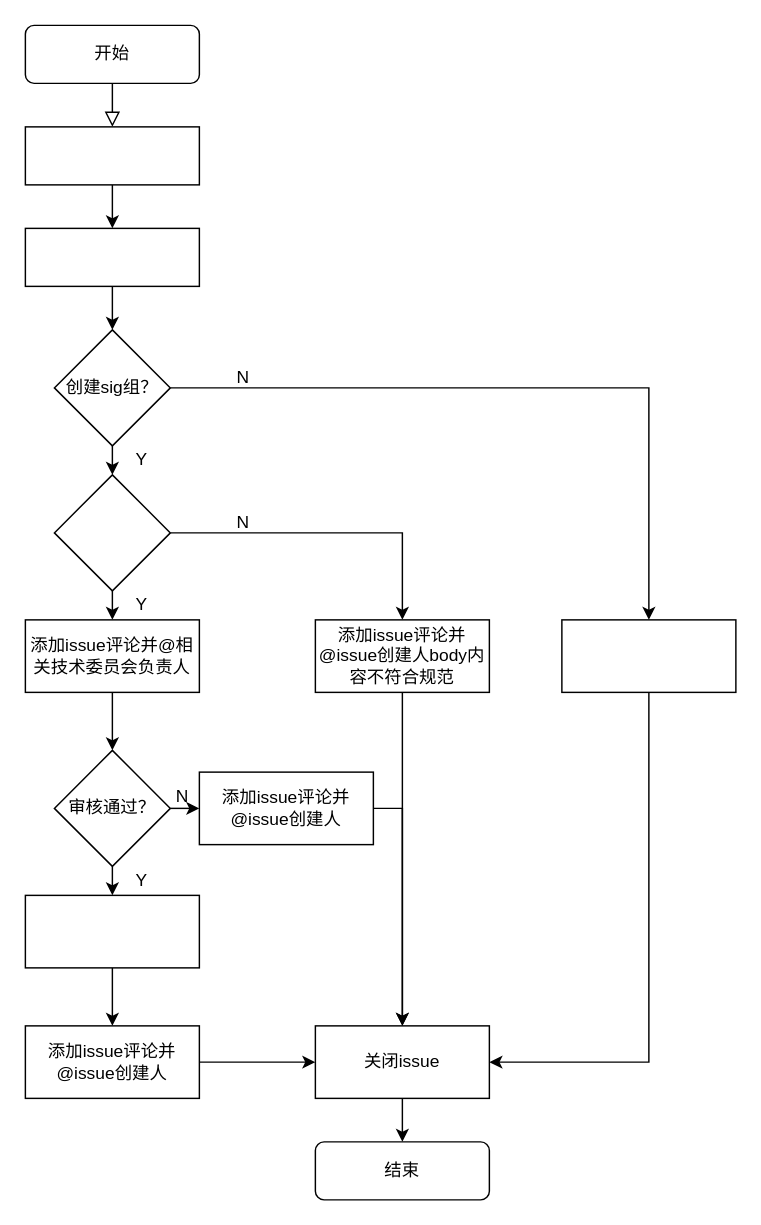
Some shapes in this 761 by 1225 pixel diagram are drawn without their labels. The centre of each missing label's shape, as x and y in pixels:
issue body符合规范？: the point at 111,532
其他issue相关CI流程: the point at 648,655
获取issue的type_name: the point at 111,256
触发issue钩子: the point at 111,155
调用创建sig组接口: the point at 111,931
